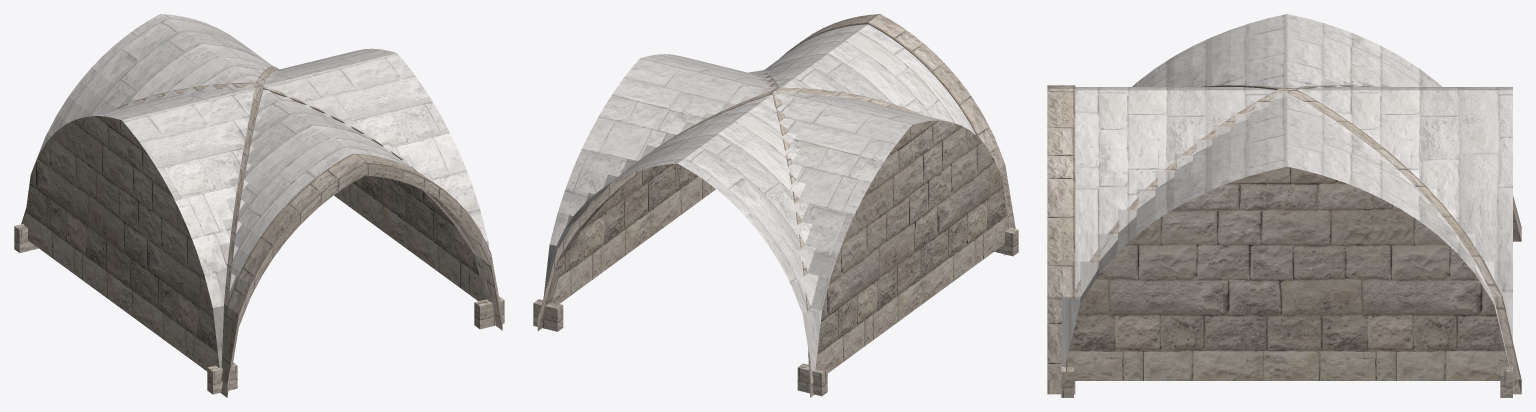
Rendered from vault_bay.glb.
The picture shows the model from 3 angles, left to right: view 1: azimuth 30°, elevation 25°; view 2: azimuth 150°, elevation 25°; view 3: azimuth 270°, elevation 25°; orthographic projection. The views are drawn at different scales.
Visible parts, largest first — view 1: Limewashed vault web, Masonry lunettes, Transverse arch and diagonal ribs; view 2: Limewashed vault web, Masonry lunettes, Transverse arch and diagonal ribs; view 3: Masonry lunettes, Limewashed vault web, Transverse arch and diagonal ribs.
Part boxes in pixels (x1,y1,x2,y2): Limewashed vault web: (31,14,488,368); Masonry lunettes: (24,116,485,371); Transverse arch and diagonal ribs: (14,66,504,397); Limewashed vault web: (543,24,975,370); Masonry lunettes: (552,120,1008,373); Transverse arch and diagonal ribs: (533,14,1018,397); Masonry lunettes: (1065,166,1509,380); Limewashed vault web: (1061,14,1512,366); Transverse arch and diagonal ribs: (1047,85,1521,397).
Size of the model in its own units: 4.24 by 2.8 by 5.25.
Materials: 2 (2 with a texture image).
